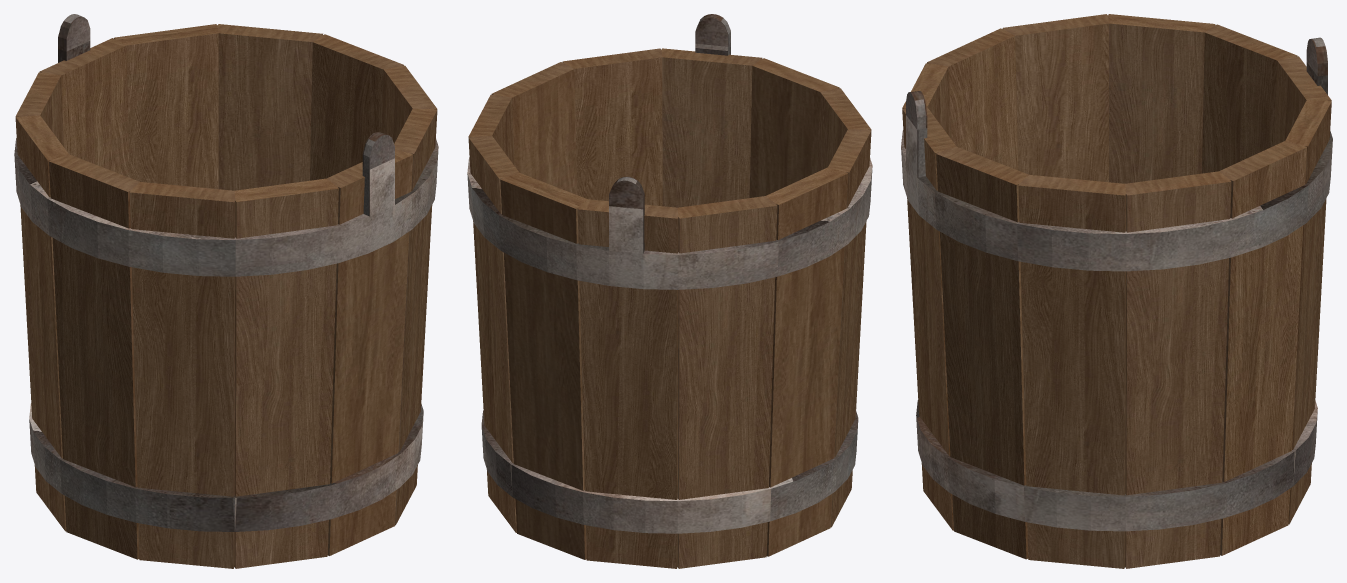
File: bucket.fbx
3 renders of one model, left to right at view 1: azimuth 30°, elevation 25°; view 2: azimuth 150°, elevation 25°; view 3: azimuth 270°, elevation 25°, orthographic. The views are drawn at different scales.
Parts seen in each view (by area): view 1: Cylinder.009, Cylinder.007, Cylinder.012; view 2: Cylinder.009, Cylinder.007, Cylinder.012; view 3: Cylinder.009, Cylinder.007, Cylinder.012.
Part boxes in pixels (x1,y1,x2,y2): Cylinder.009: [15, 33, 437, 568]; Cylinder.007: [14, 14, 438, 531]; Cylinder.012: [15, 24, 436, 202]; Cylinder.009: [468, 57, 871, 568]; Cylinder.007: [467, 14, 872, 533]; Cylinder.012: [468, 48, 871, 218]; Cylinder.009: [902, 23, 1331, 568]; Cylinder.007: [901, 37, 1332, 531]; Cylinder.012: [902, 14, 1331, 195].
Size of the model in its own units: 2.03 by 2.18 by 2.03.
2 materials, 2 textured.
